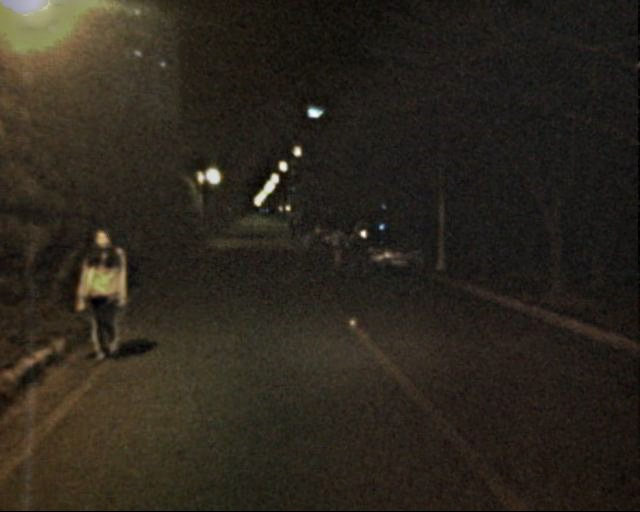person: (75, 225, 137, 360), (329, 225, 347, 270), (287, 220, 309, 247)
